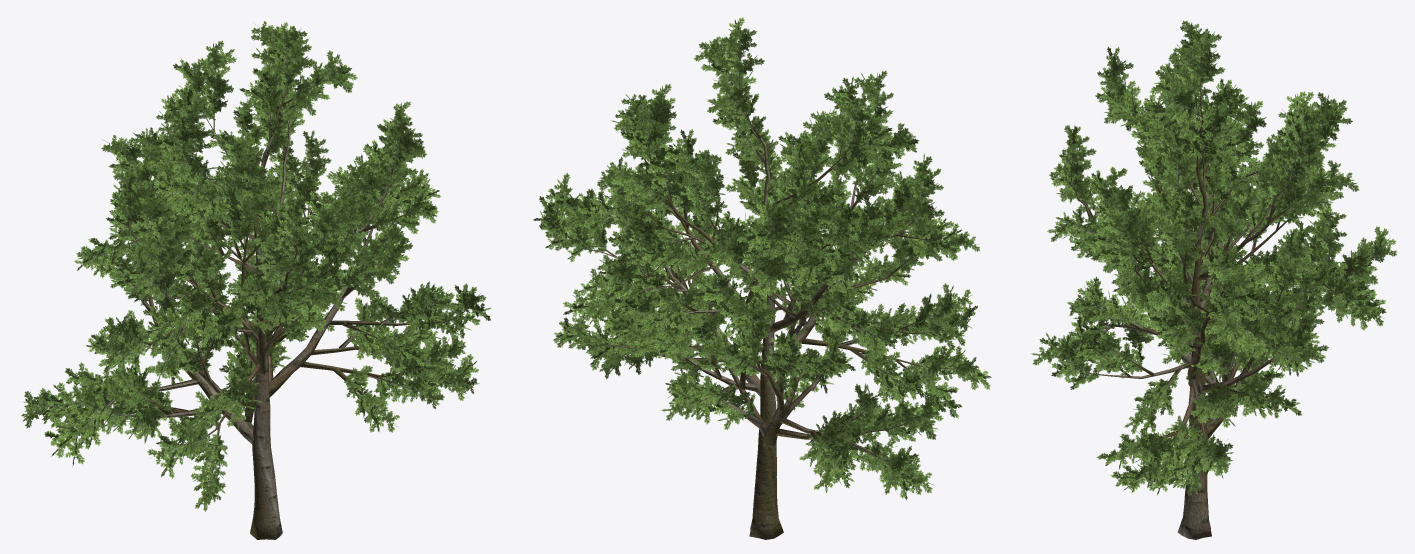
File: ancient-tree.glb
The picture shows the model from 3 angles, left to right: view 1: azimuth 30°, elevation 25°; view 2: azimuth 150°, elevation 25°; view 3: azimuth 270°, elevation 25°; orthographic projection.
Parts seen in each view (by area): view 1: oak_near_leaves, oak_near_branches; view 2: oak_near_leaves, oak_near_branches; view 3: oak_near_leaves, oak_near_branches.
Boxes of the visible parts, bbox=[...] form: oak_near_leaves: bbox=[21, 21, 491, 511]; oak_near_branches: bbox=[40, 45, 463, 539]; oak_near_leaves: bbox=[533, 17, 991, 500]; oak_near_branches: bbox=[556, 39, 957, 539]; oak_near_leaves: bbox=[1031, 20, 1397, 495]; oak_near_branches: bbox=[1066, 57, 1370, 539].
Size of the model in its own units: 17.45 by 21 by 13.85.
2 materials, 2 textured.
